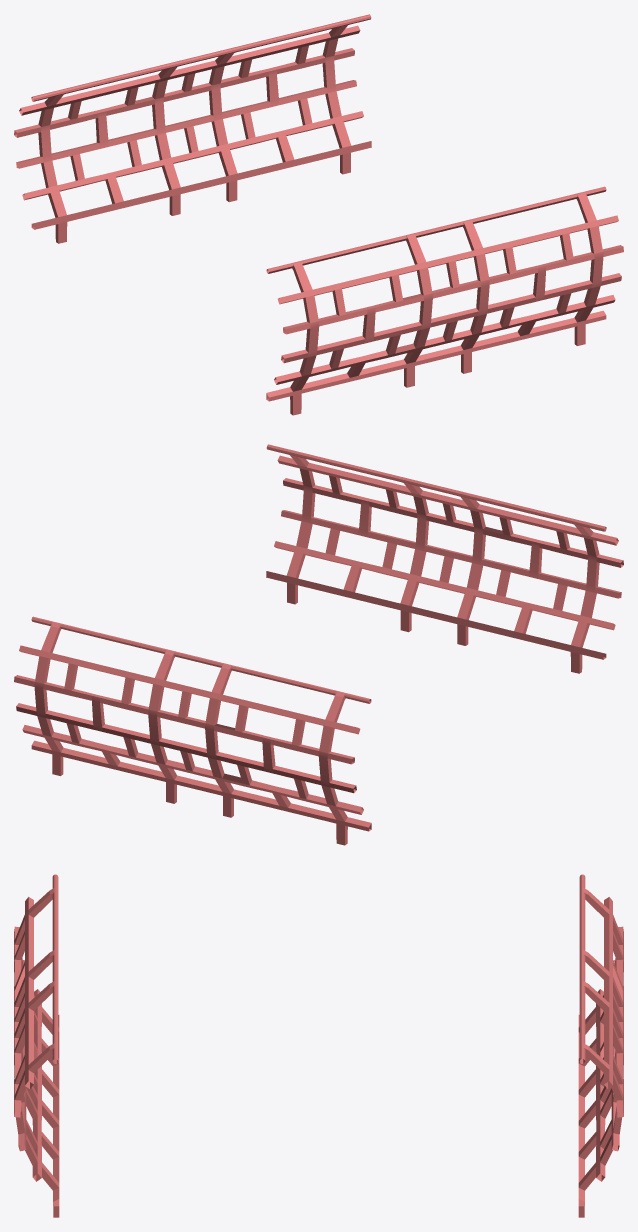
Rendered from Herbie Rails x4.fbx.
The picture shows the model from 3 angles, top to bottom: view 1: azimuth 30°, elevation 25°; view 2: azimuth 150°, elevation 25°; view 3: azimuth 270°, elevation 25°; orthographic projection. The views are drawn at different scales.
Visible parts, largest first — view 1: Quad; view 2: Quad; view 3: Quad.
Boxes of the visible parts, box(x1,y1,x2,y2) form: Quad: box(14, 14, 623, 415); Quad: box(14, 444, 623, 845); Quad: box(14, 874, 623, 1217).
Size of the model in its own units: 447 by 192 by 625.
